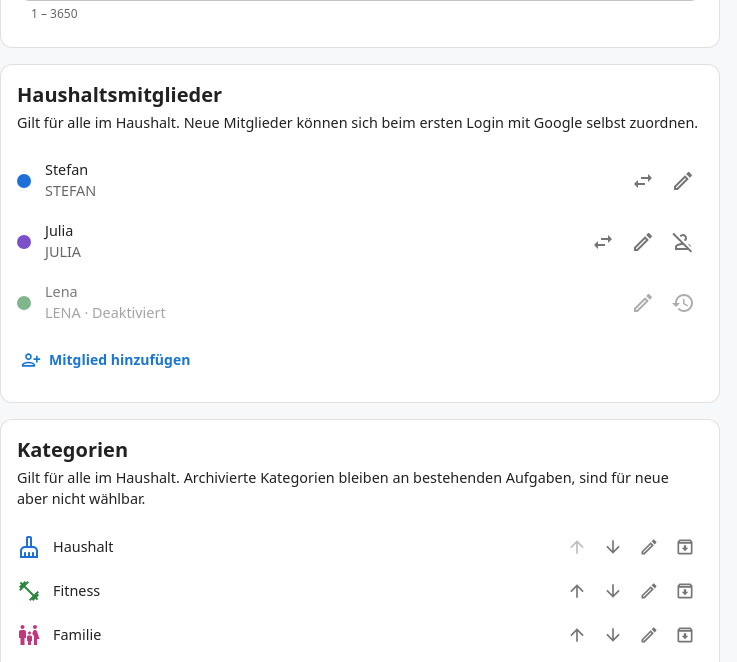
Test case: member deactivation › reactivates a deactivated member
The width and height of the screenshot is (737, 662).
(page scrolled)
Click the button named "Lena reaktivieren".
click(683, 303)  # box 663,283 -> 703,323
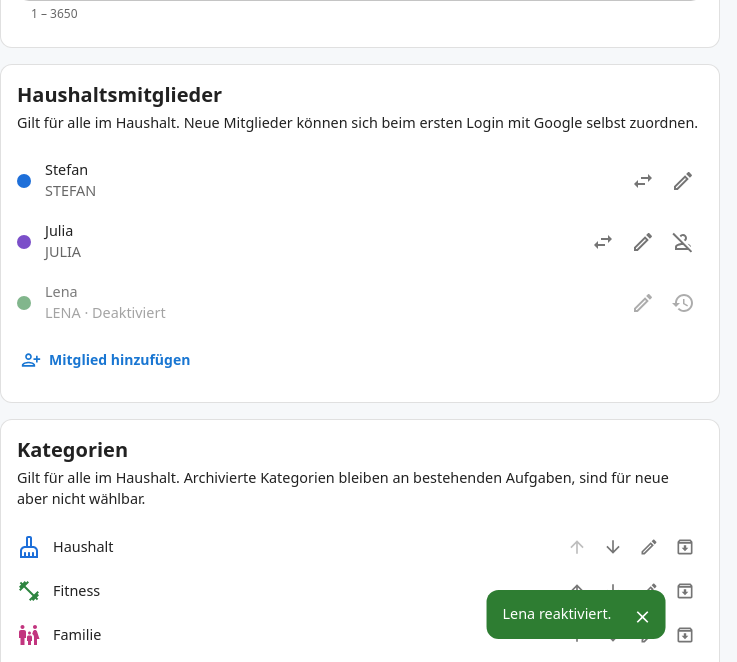
Check: the text "Lena reaktiviert." is shown, box 502,604 -> 611,623
